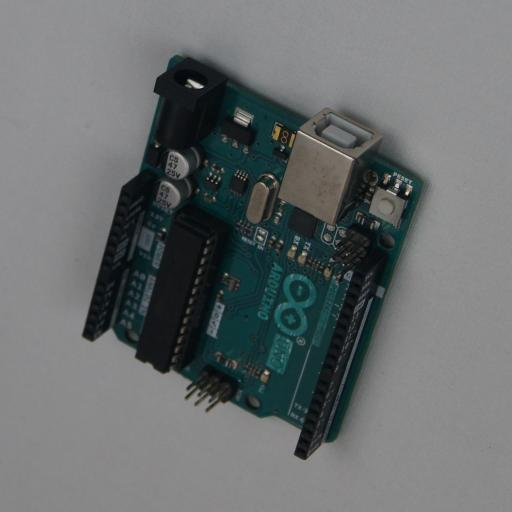Arduino Uno -Green-: (82, 55, 426, 460)
